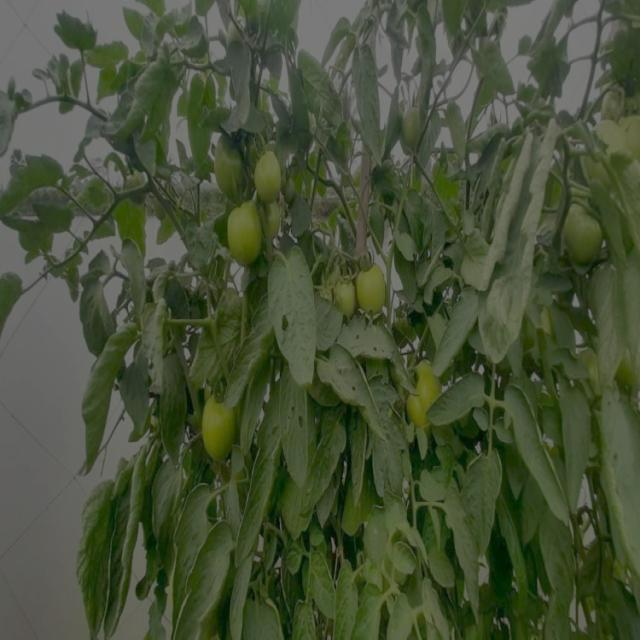tomato: (395, 354, 457, 439), (561, 190, 611, 279), (198, 388, 240, 464), (394, 89, 437, 150), (357, 256, 394, 322), (223, 207, 261, 271), (209, 130, 246, 192), (252, 148, 289, 207), (77, 168, 115, 221), (330, 264, 356, 321), (267, 203, 295, 247)
